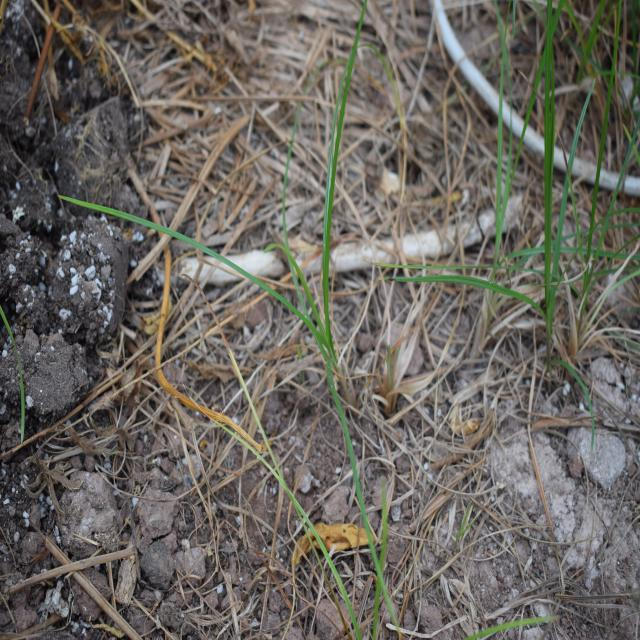sedge: (89, 52, 416, 562), (500, 37, 640, 346)
